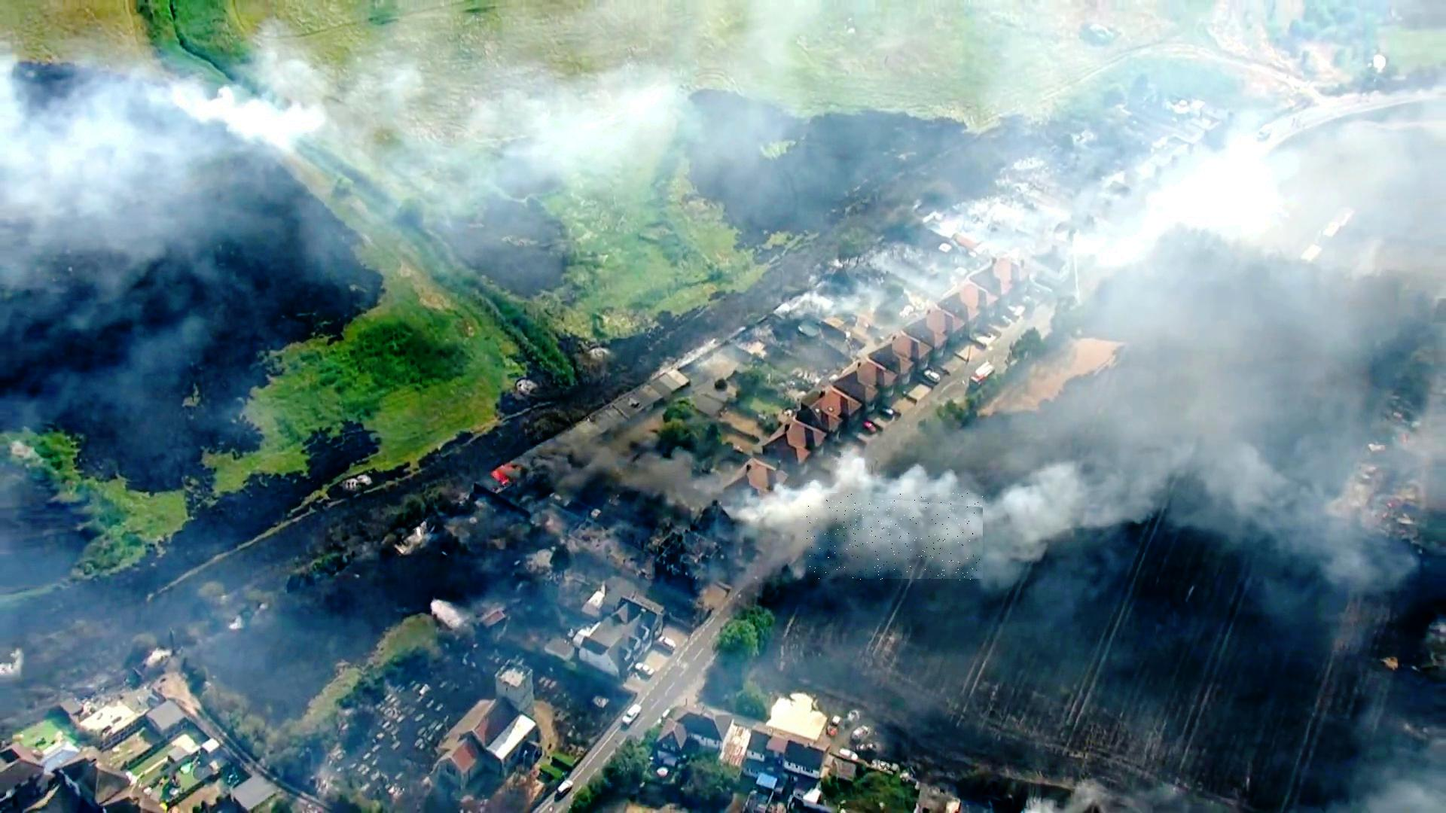smoke: (806, 494, 983, 581)
